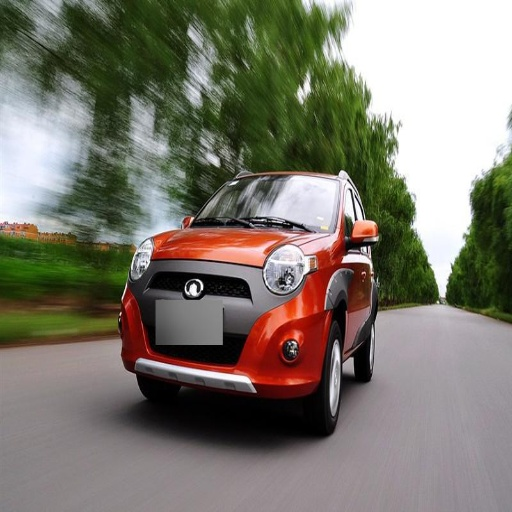front_bumper: (137, 261, 329, 398)
front_glass: (193, 175, 335, 231)
front_left_door: (341, 187, 375, 312)
